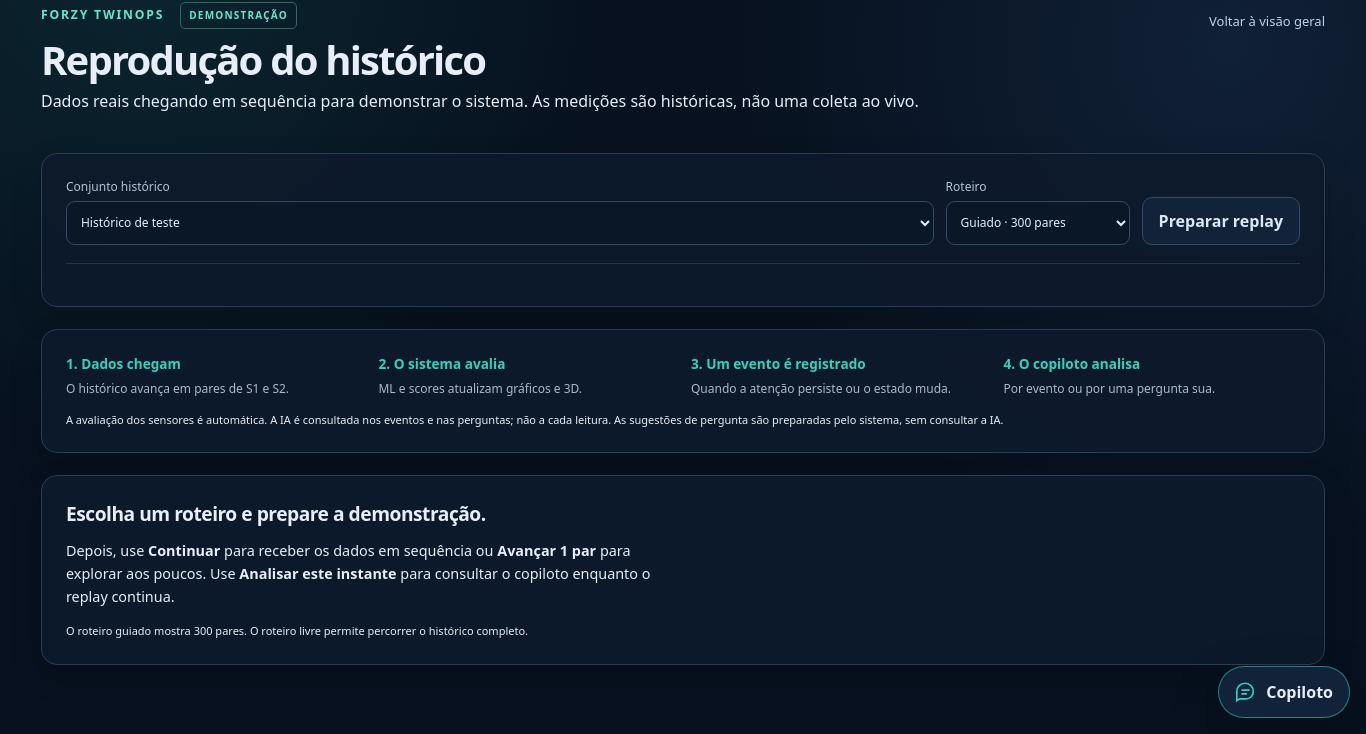
it: clears an event selection even when a new session reuses its event id
This screenshot has width=1366, height=734.
Click the button "Preparar replay" at [1221, 221], box [1142,197,1300,245]
(page scrolled)
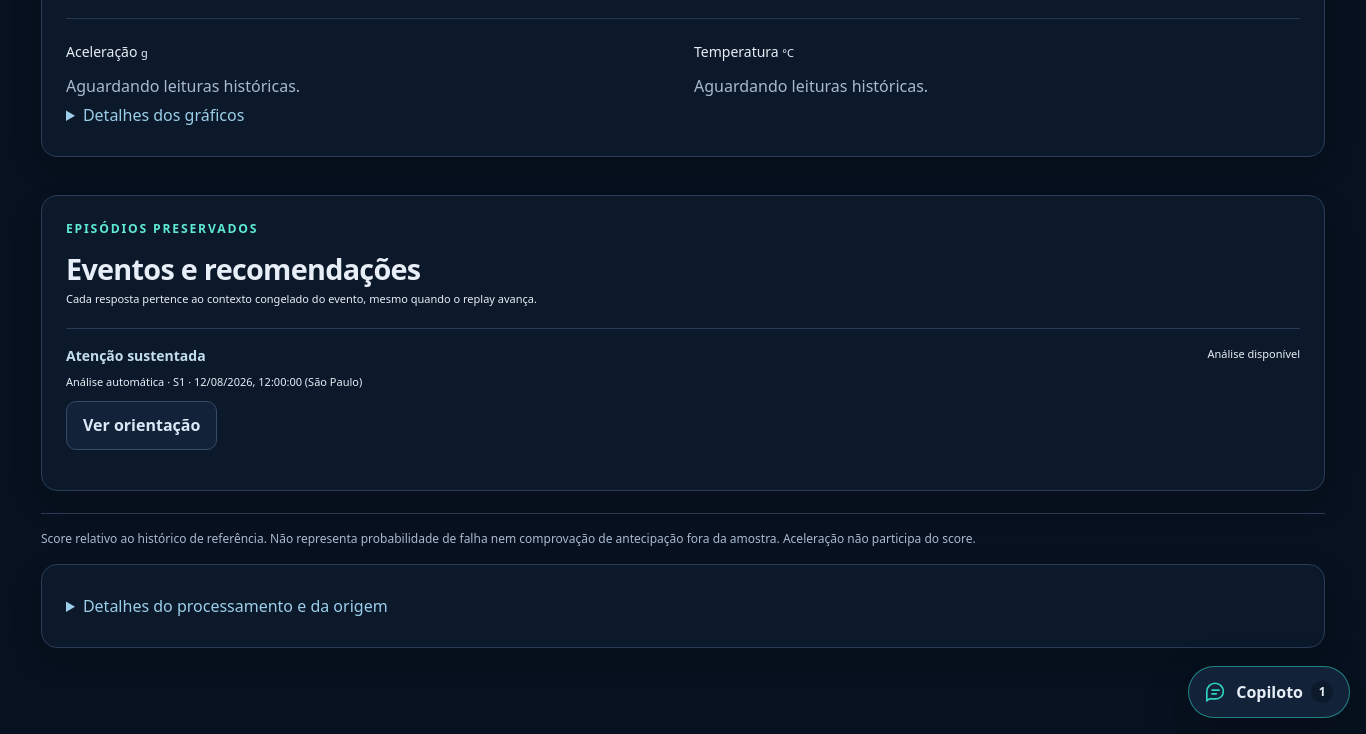
Click the button named "Ver orientação: Atenção sustentada" at [142, 425], box [66,401,217,450]
(page scrolled)
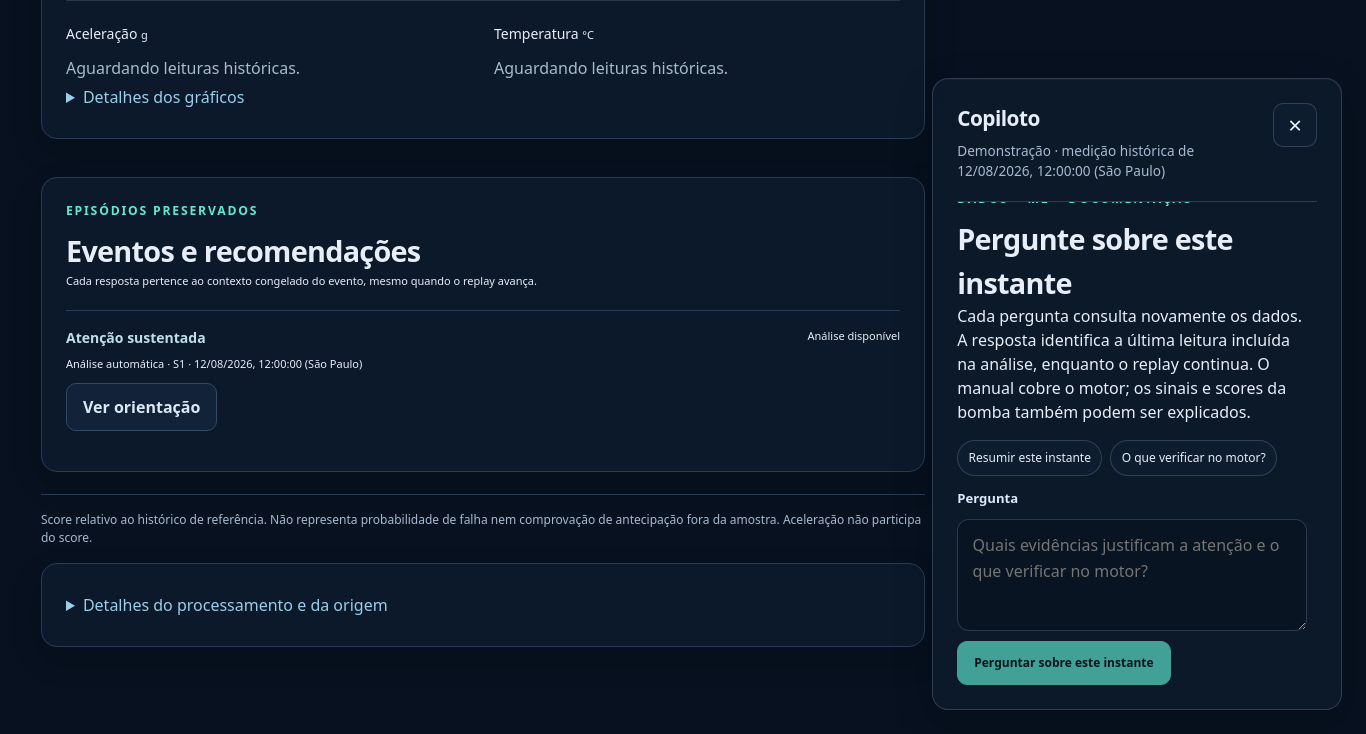
Replace the text in the text box labelled "Pergunta" with "Rascunho antigo" at [1132, 575], box [957,519,1307,631]
(page scrolled)
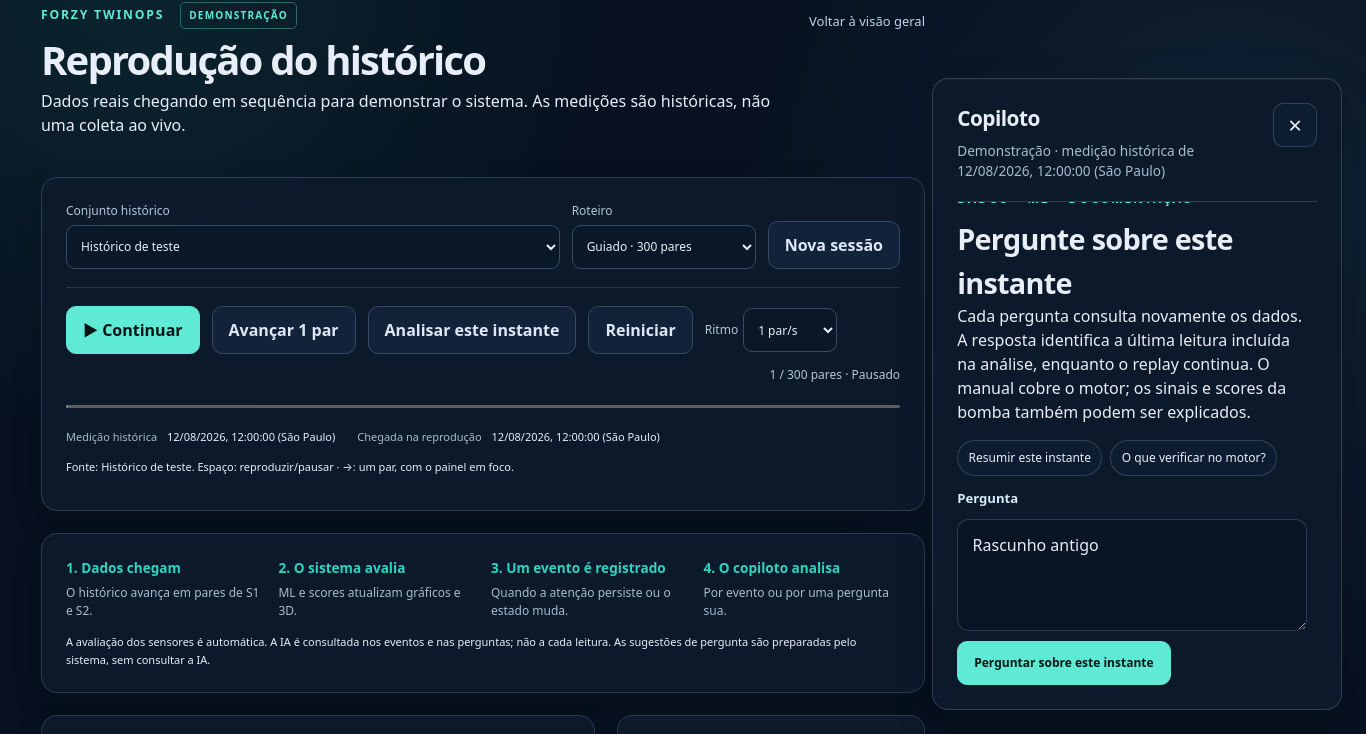
Click the button "Nova sessão" at [834, 245], box [768,221,900,269]
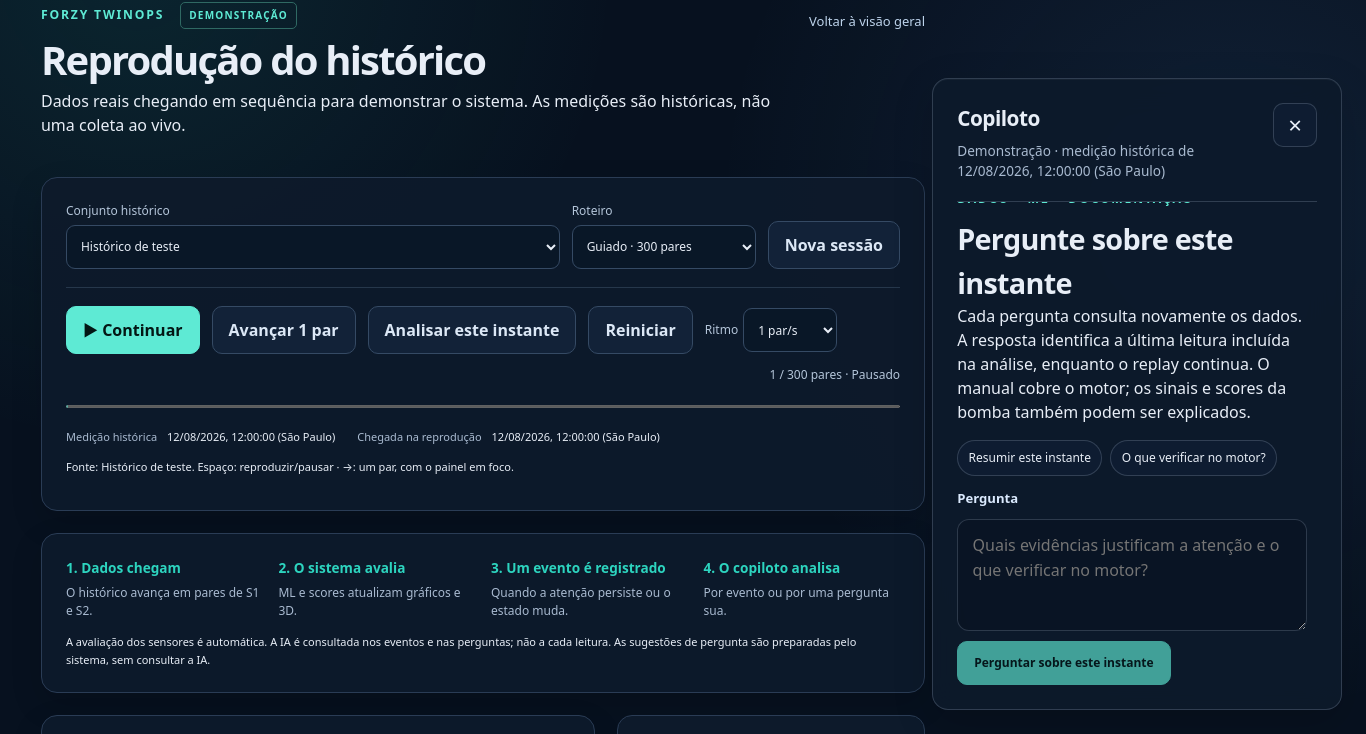
Result: the text box labelled "Pergunta" is enabled at [957,519,1307,631]
Result: the text box labelled "Pergunta" is empty at [957,519,1307,631]
